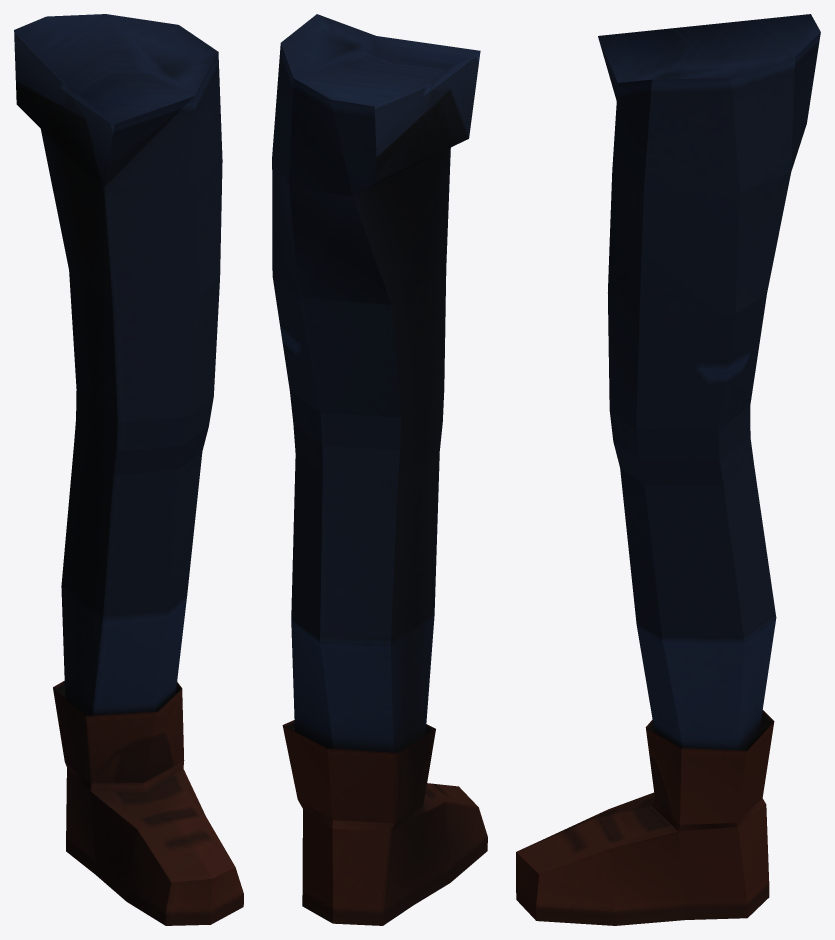
File: lLeg.obj
3 renders of one model, left to right at view 1: azimuth 30°, elevation 25°; view 2: azimuth 150°, elevation 25°; view 3: azimuth 270°, elevation 25°, orthographic. The views are drawn at different scales.
Parts seen in each view (by area): view 1: Body_body_mesh.006; view 2: Body_body_mesh.006; view 3: Body_body_mesh.006.
Boxes of the visible parts, <box> form: Body_body_mesh.006: <box>14,14,243,925</box>; Body_body_mesh.006: <box>272,14,487,925</box>; Body_body_mesh.006: <box>516,14,820,925</box>.
Bounding box in the file's own units: 0.2466 × 1.44 × 0.4635.
